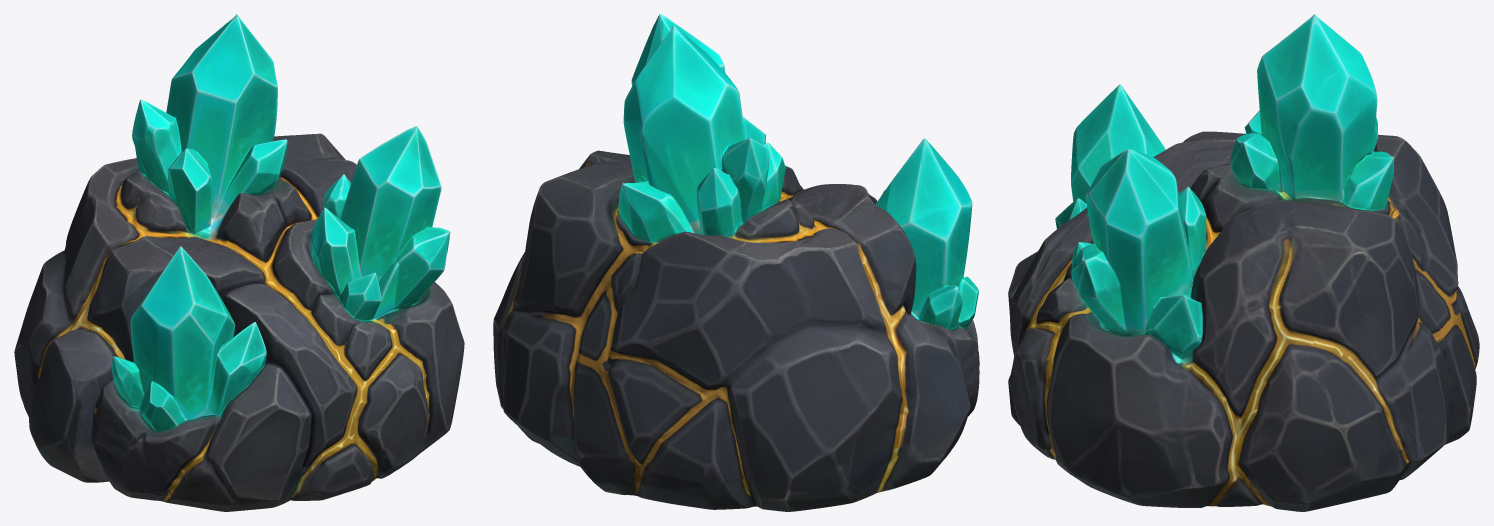
The model's file is PocketForge_TurquoiseCrystalOre_v2_Imported.glb.
The picture shows the model from 3 angles, left to right: view 1: azimuth 30°, elevation 25°; view 2: azimuth 150°, elevation 25°; view 3: azimuth 270°, elevation 25°; orthographic projection. The views are drawn at different scales.
Size of the model in its own units: 1.9 by 1.83 by 1.84.
1 material, 1 textured.
